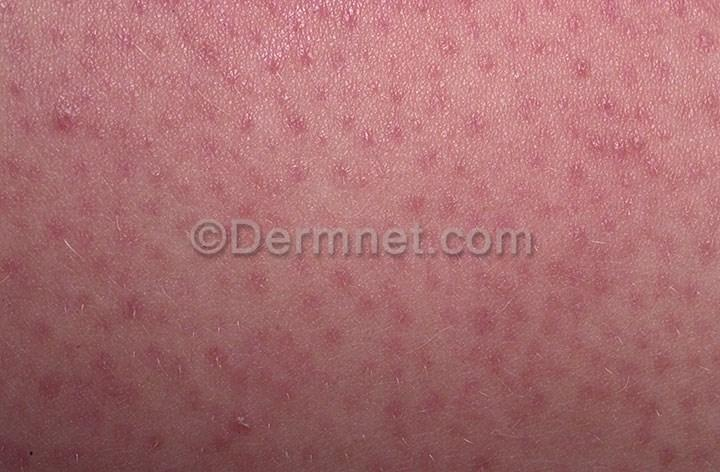Eritema 2: (0, 0, 719, 472)
edema 1: (0, 1, 719, 472)
